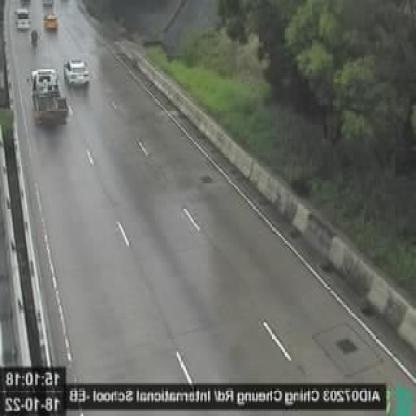Car: (63, 57, 90, 90), (13, 6, 33, 33), (43, 11, 58, 34)
Truck: (27, 67, 69, 130)
